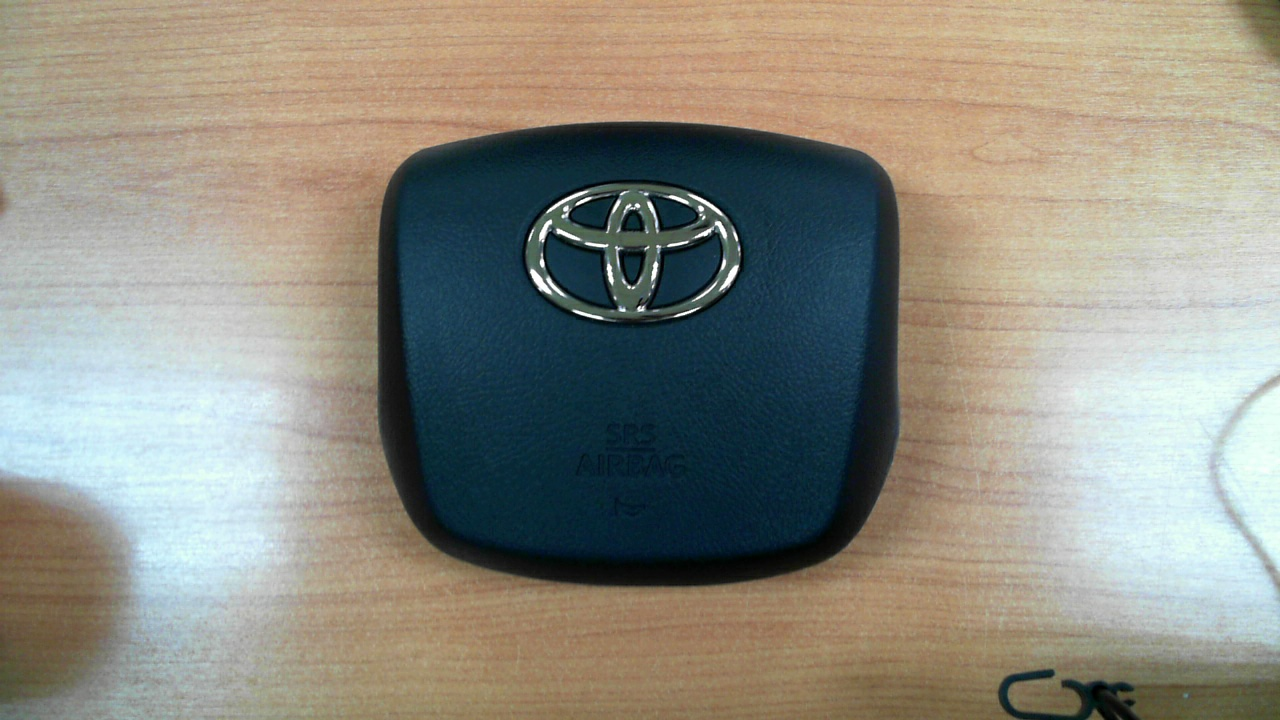Airbag: (339, 93, 935, 626)
